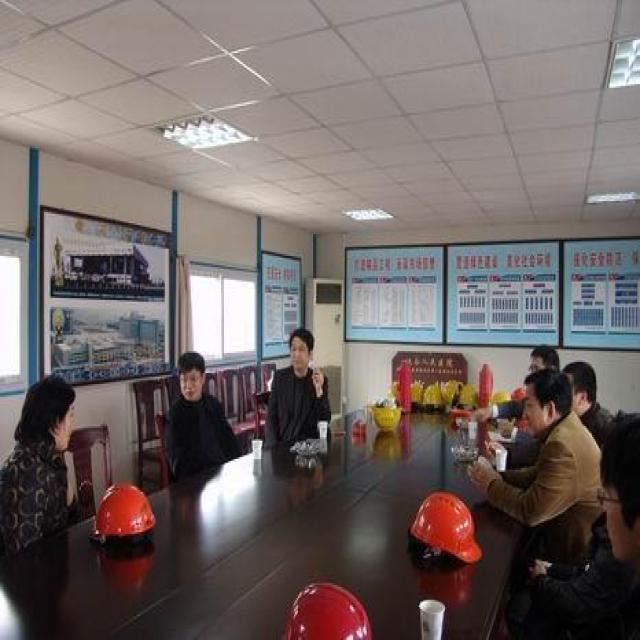no-helmet: (594, 419, 638, 563), (22, 371, 80, 459), (525, 368, 571, 435), (555, 360, 597, 424), (174, 347, 212, 406), (287, 324, 316, 375), (528, 340, 560, 384)
